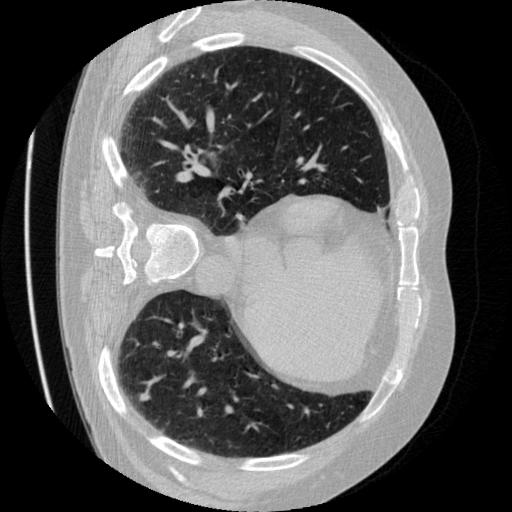nodule: (139, 390, 153, 404)
